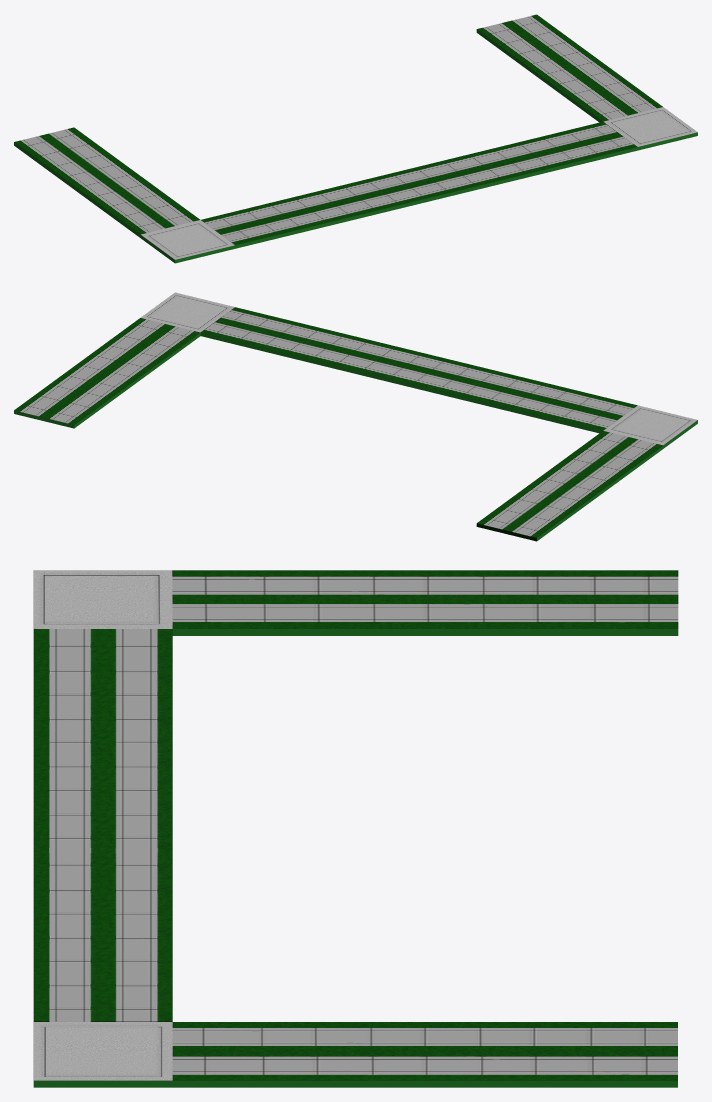
File: Side Walk V2 school side.fbx
The picture shows the model from 3 angles, top to bottom: view 1: azimuth 30°, elevation 25°; view 2: azimuth 150°, elevation 25°; view 3: azimuth 270°, elevation 25°; orthographic projection. The views are drawn at different scales.
Visible parts, largest first — view 1: pCube397; view 2: pCube397; view 3: pCube397.
Part boxes in pixels (x1=…): pCube397: x1=14, y1=14, x2=697, y2=263; pCube397: x1=14, y1=292, x2=697, y2=541; pCube397: x1=33, y1=570, x2=678, y2=1087.
Bounding box in the file's own units: 8820 × 57.18 × 4706.
Materials: 2 (1 with a texture image).
